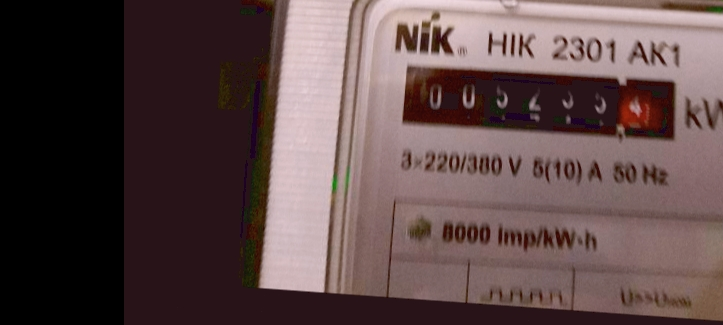0: (457, 78, 479, 112), (425, 79, 445, 112)
2: (523, 79, 546, 115)
3: (555, 80, 581, 114)
4: (623, 85, 648, 122)
5: (588, 81, 613, 119), (491, 78, 512, 112)
screen: (384, 48, 691, 156)
